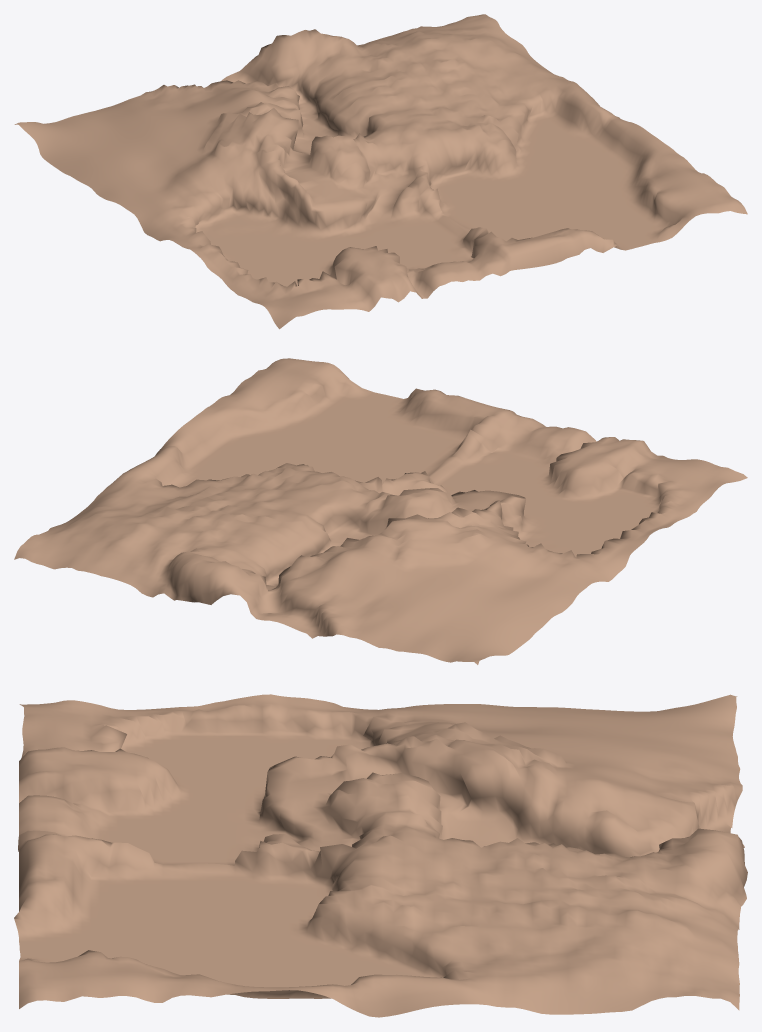
File: Mesh_CrashSite.fbx
3 views of the same model, one above another, from view 1: azimuth 30°, elevation 25°; view 2: azimuth 150°, elevation 25°; view 3: azimuth 270°, elevation 25° (orthographic). The views are drawn at different scales.
Visible parts, largest first — view 1: plane; view 2: plane; view 3: plane.
Boxes of the visible parts, x1,y1,x2,y2 form: plane: (14,14,747,329); plane: (14,358,747,664); plane: (14,694,747,1017).
Size of the model in its own units: 304 by 33.98 by 306.
